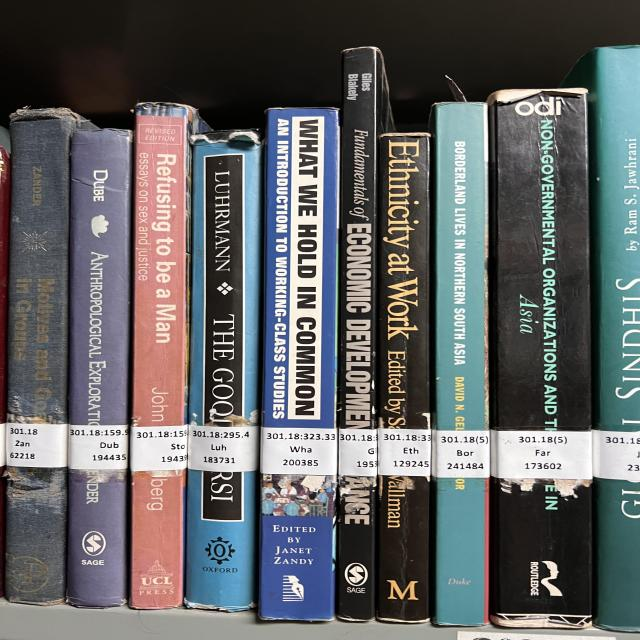Book: (5, 109, 95, 605), (260, 108, 338, 620), (185, 131, 262, 611), (488, 88, 592, 430), (130, 102, 198, 609), (337, 48, 392, 621), (67, 129, 132, 608), (432, 102, 490, 625), (377, 134, 432, 622)
Label: (490, 430, 592, 480), (260, 428, 337, 475), (188, 425, 260, 472), (7, 422, 68, 468), (432, 430, 490, 478), (68, 425, 128, 470), (130, 425, 188, 471), (377, 429, 432, 476), (338, 429, 377, 476)
